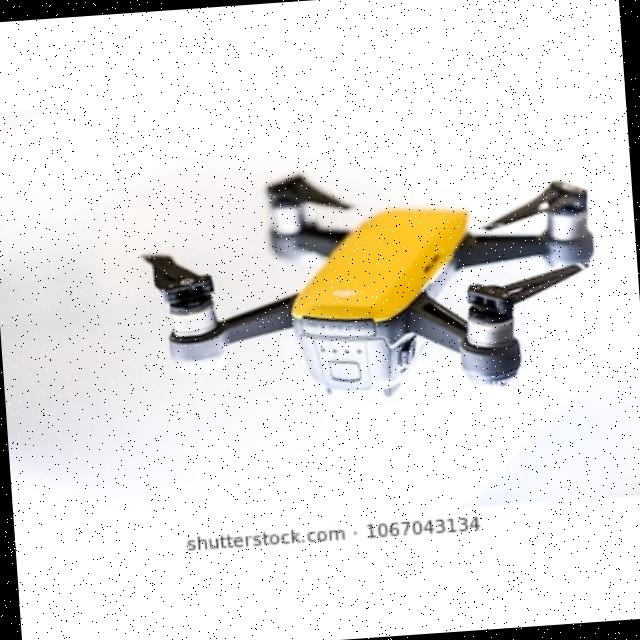Drones: (169, 150, 609, 422)
